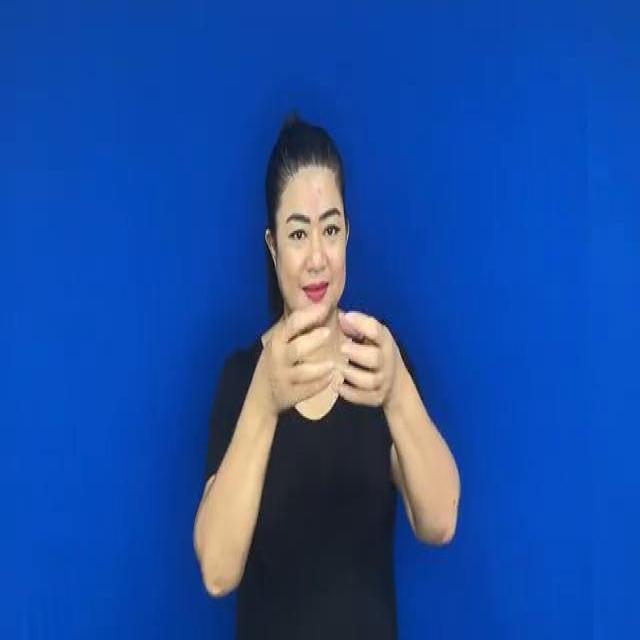egg: (249, 301, 410, 423)
